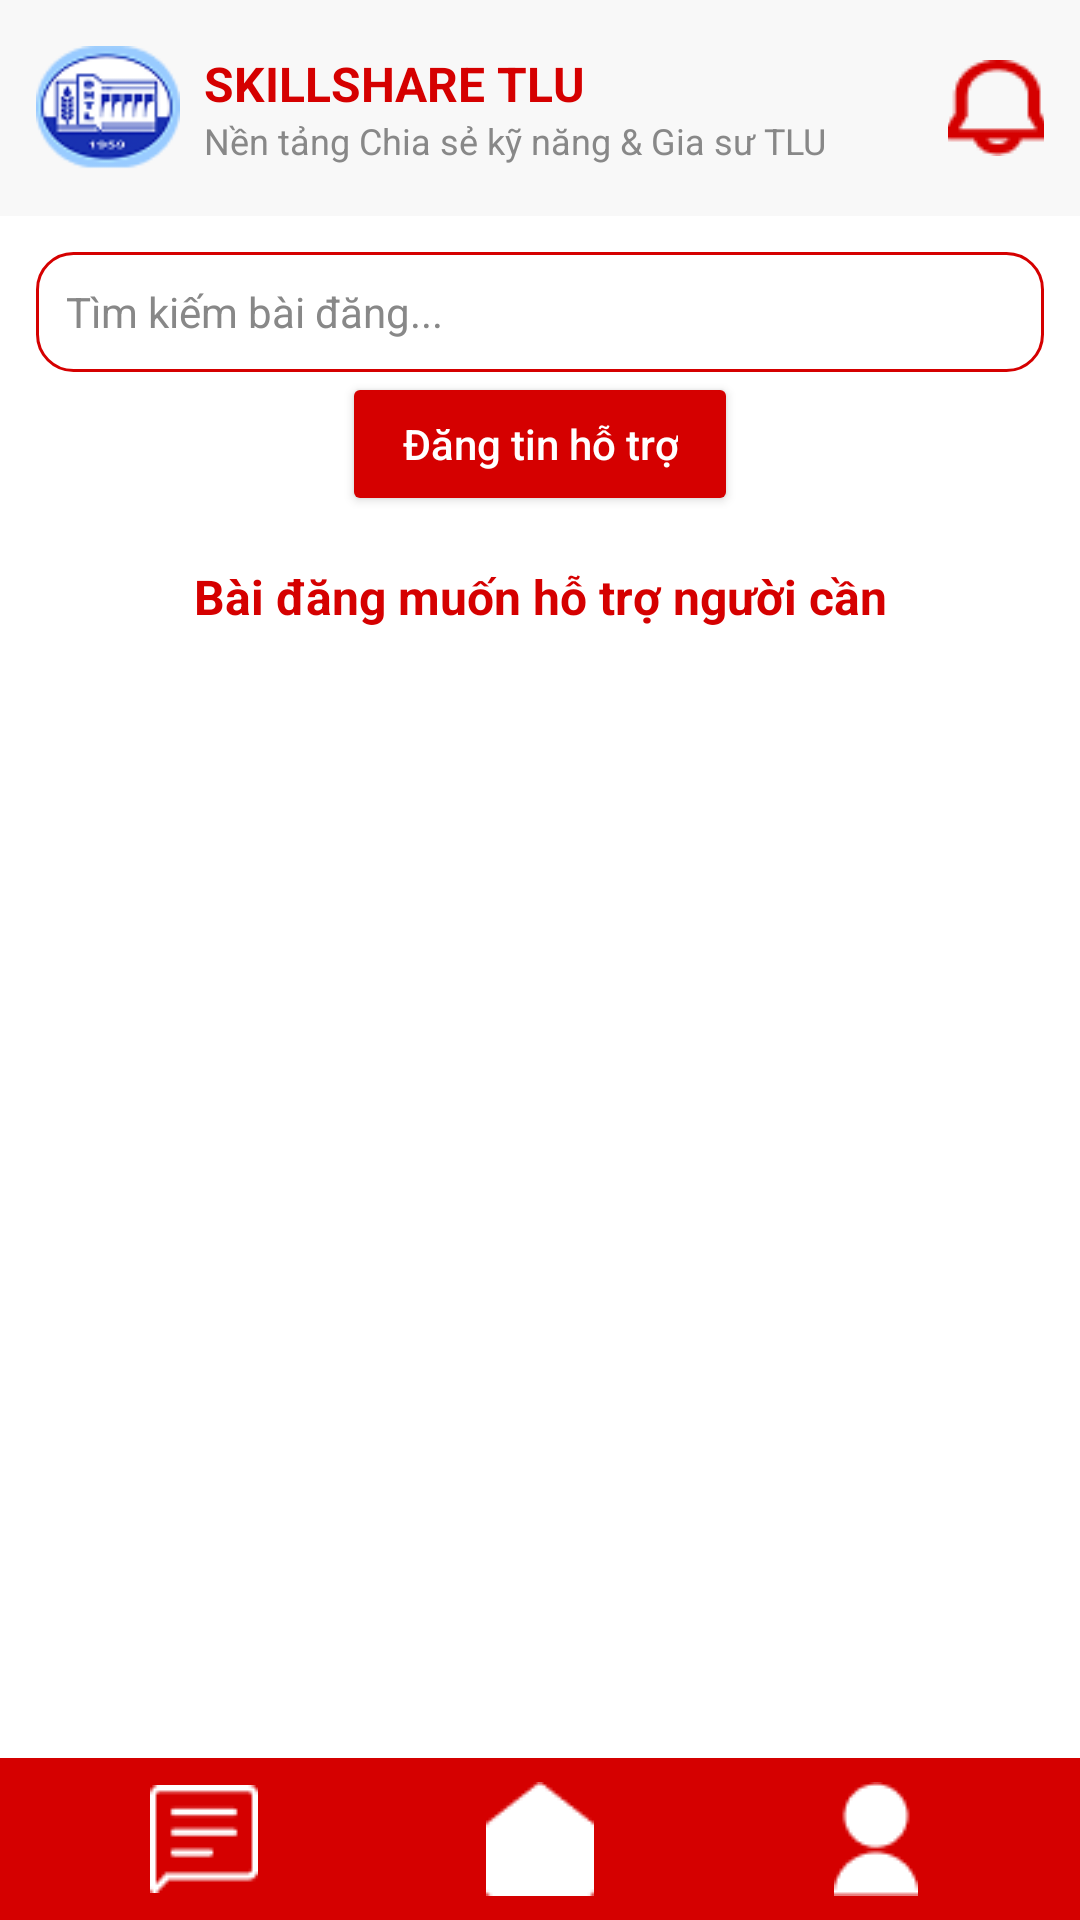

Screen size 1080 × 1920. Icon name, then its center in pixels as point (x, y):
Cá nhân: point (876, 1839)
Thông báo: point (996, 108)
Tin nhắn: point (204, 1839)
Trang chủ: point (540, 1839)
